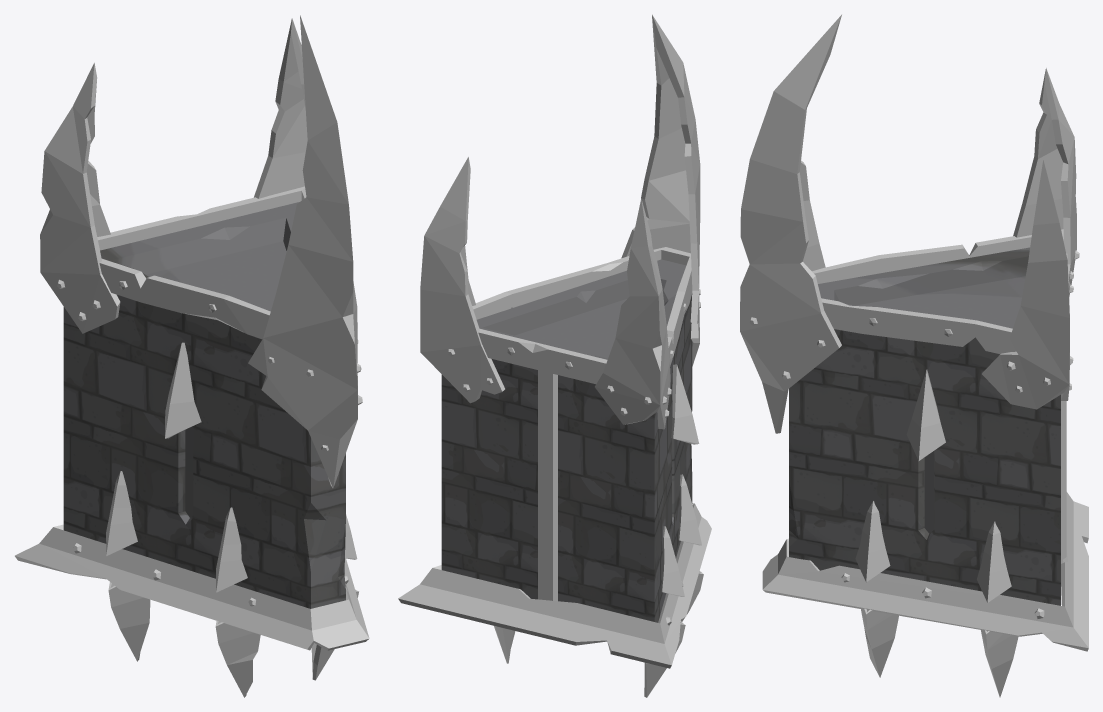
The model's file is SM_Bld_Corner_Tower_03.fbx.
3 views of the same model, side by side, from view 1: azimuth 30°, elevation 25°; view 2: azimuth 150°, elevation 25°; view 3: azimuth 270°, elevation 25° (orthographic). The views are drawn at different scales.
Parts seen in each view (by area): view 1: SM_Bld_Corner_Tower_03; view 2: SM_Bld_Corner_Tower_03; view 3: SM_Bld_Corner_Tower_03.
Part boxes in pixels (left/top/right/bottom): SM_Bld_Corner_Tower_03: left=15, top=15, right=369, bottom=697; SM_Bld_Corner_Tower_03: left=398, top=14, right=711, bottom=697; SM_Bld_Corner_Tower_03: left=740, top=14, right=1088, bottom=697.
Size of the model in its own units: 484 by 1034 by 505.
